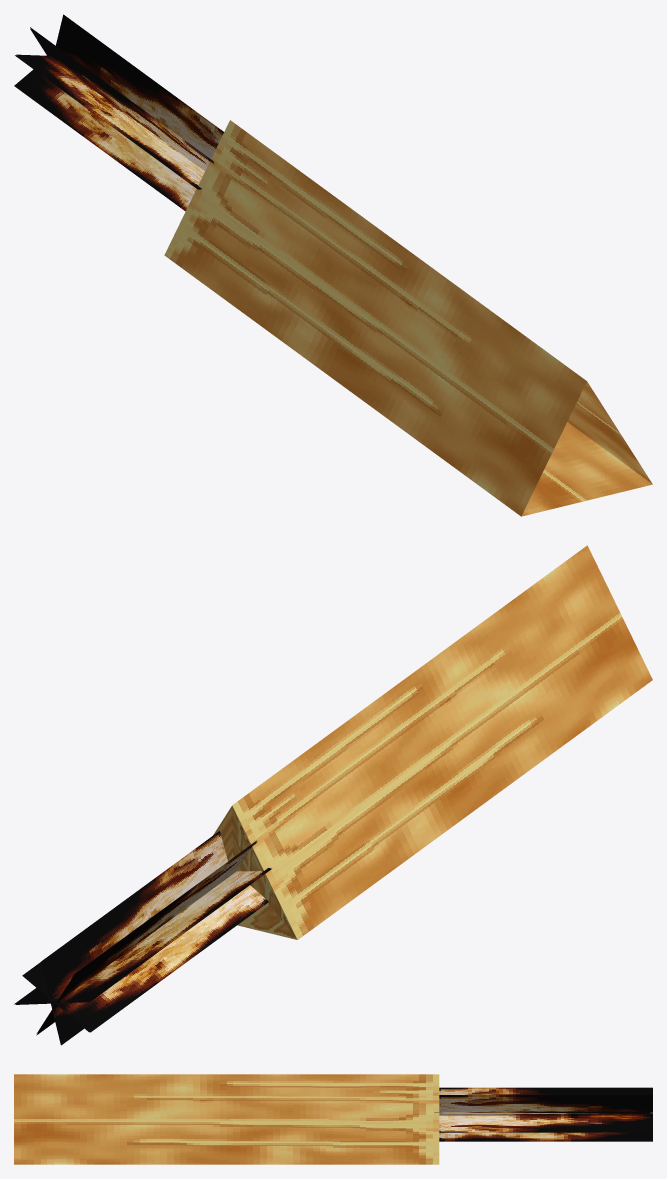
File: Candle.fbx
3 renders of one model, top to bottom at view 1: azimuth 30°, elevation 25°; view 2: azimuth 150°, elevation 25°; view 3: azimuth 270°, elevation 25°, orthographic. The views are drawn at different scales.
Visible parts, largest first — view 1: CANDLE; view 2: CANDLE; view 3: CANDLE.
Part boxes in pixels (box(x1,y1,x2,y2)): CANDLE: box(14, 14, 652, 516); CANDLE: box(14, 545, 652, 1045); CANDLE: box(14, 1074, 652, 1164).
Size of the model in its own units: 1.56 by 1.35 by 10.97.
